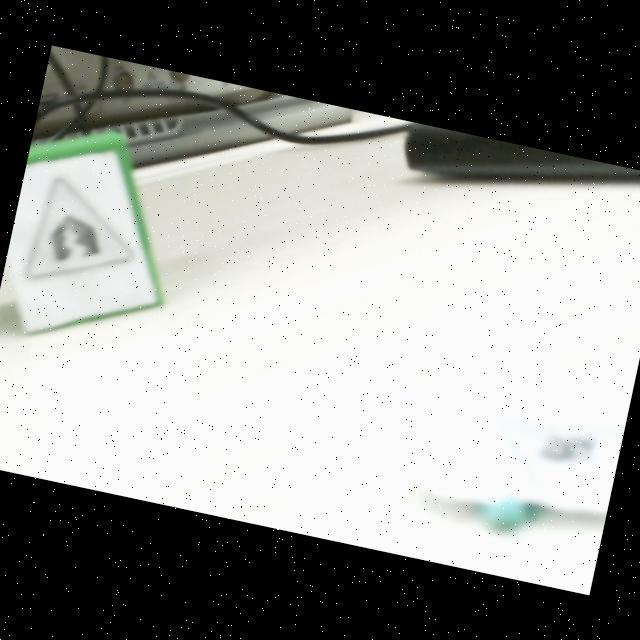Earthquake: (27, 177, 133, 279)
